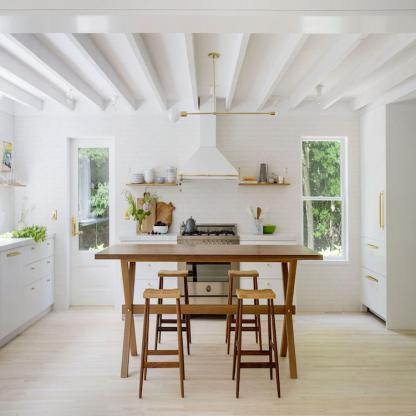chair: (233, 284, 282, 407), (139, 287, 186, 404), (152, 267, 196, 349), (224, 265, 261, 354)
door: (64, 130, 116, 311)
light: (163, 49, 284, 130)
table: (97, 228, 327, 377)
